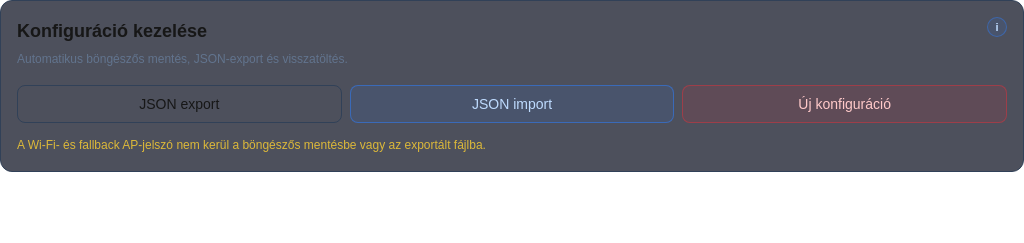
ConfigurationManager › exportálja a konfigurációt
Click the button "JSON export": (179, 104) [17, 85, 342, 123]
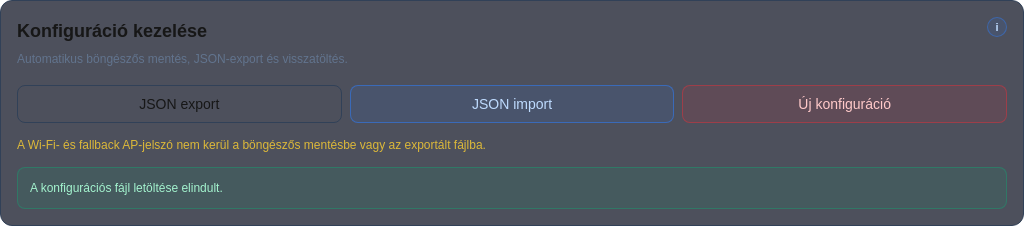
Expected: the message reads "A konfigurációs fájl letöltése elindult.", [30, 181, 223, 195]
